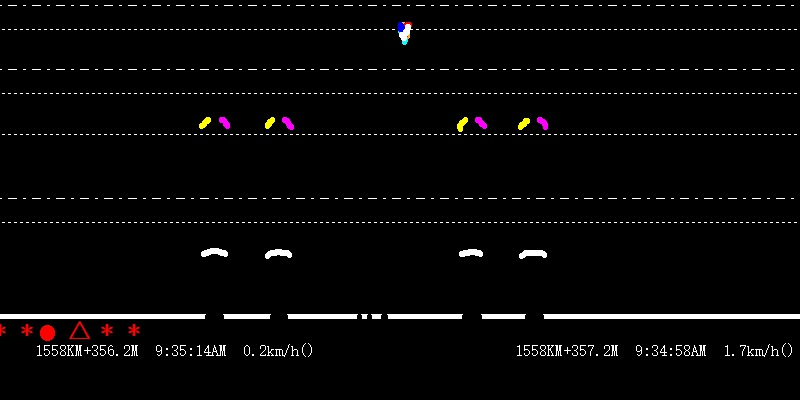L: (181, 107, 559, 278)
circle: (36, 324, 57, 344)
face_2: (397, 16, 411, 45)
star: (18, 320, 35, 339), (125, 321, 142, 338), (99, 323, 115, 339)
